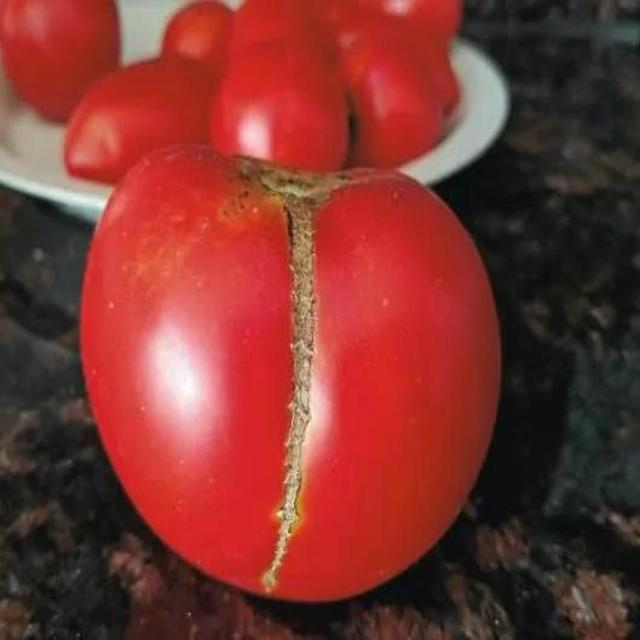Healthy Fruit: (48, 27, 265, 90)
